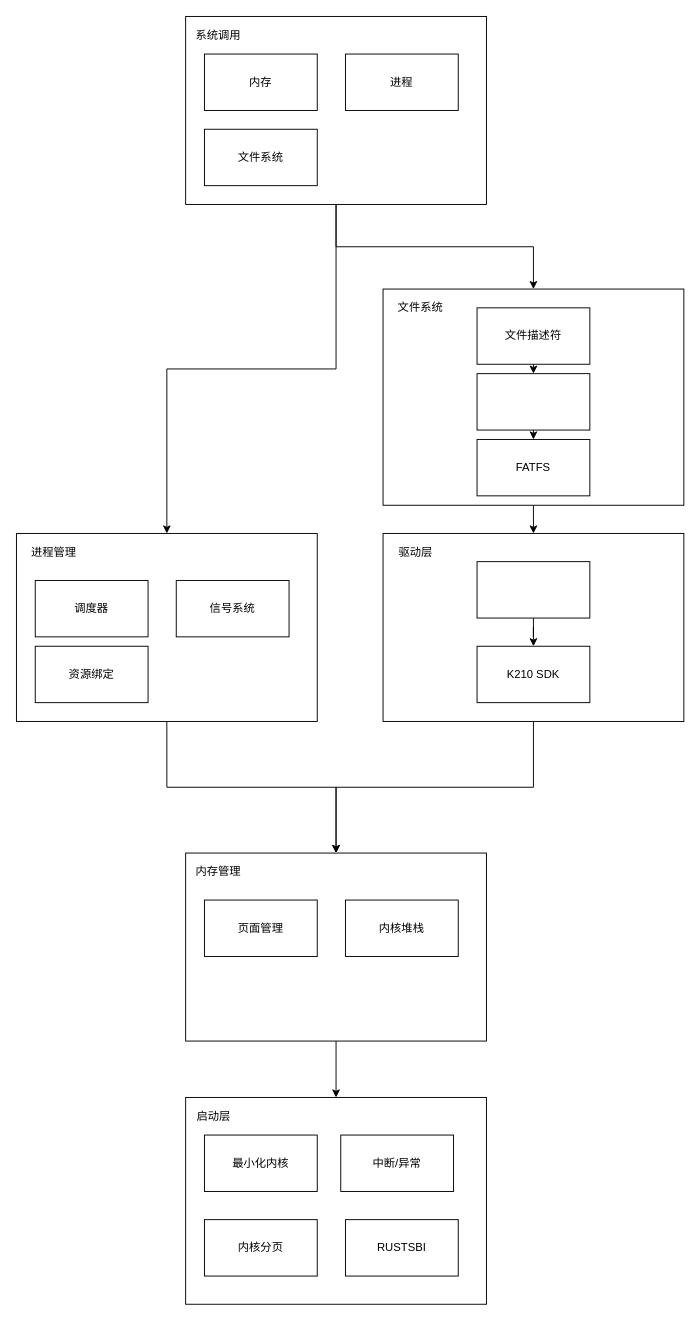
The diagram is 700 pixels wide and 1321 high, and some of its shapes have lost their labels. The centre of each missing label's shape, as x and y in pixels:
"SD卡" belongs at [533,589].
"VFS" belongs at [533,401].
